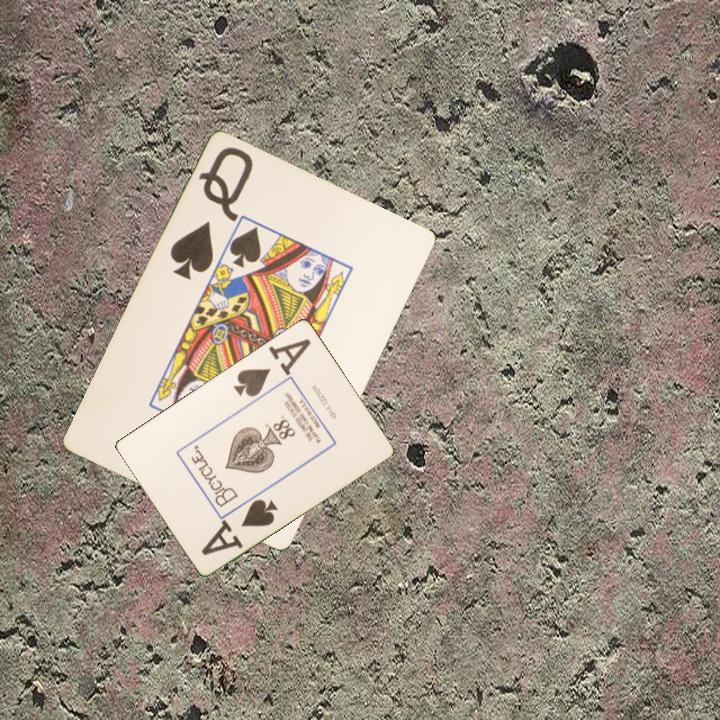As: (197, 495, 281, 558), (229, 341, 306, 399)
Qs: (166, 143, 257, 284)
